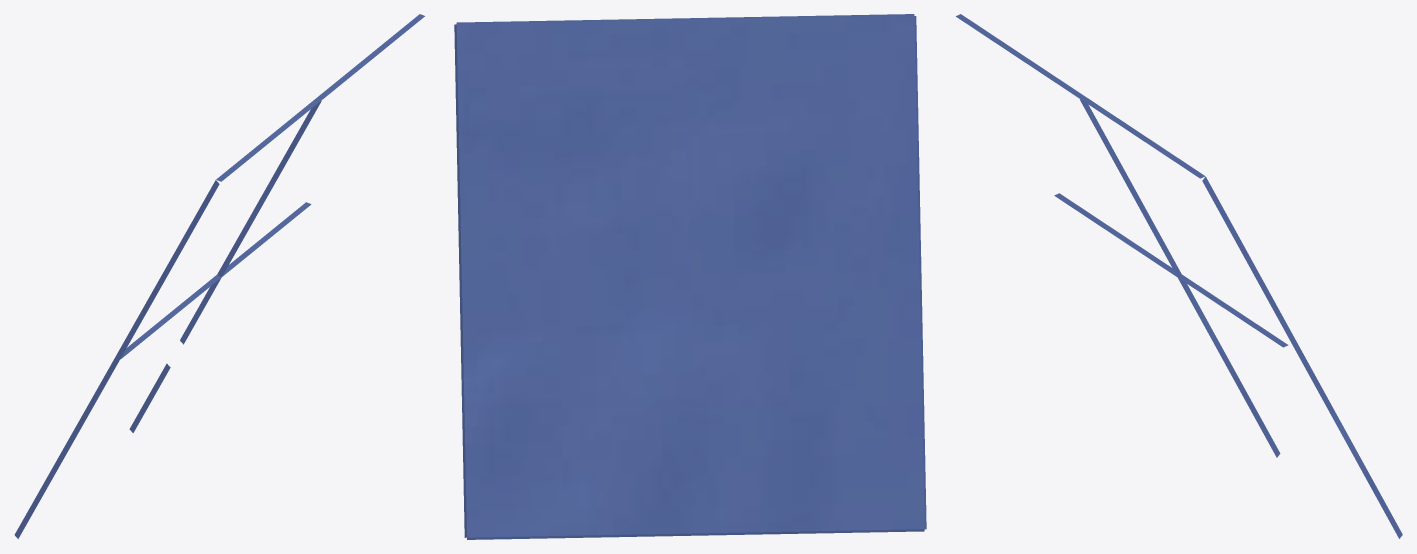
3 views of the same model, side by side, from view 1: azimuth 30°, elevation 25°; view 2: azimuth 150°, elevation 25°; view 3: azimuth 270°, elevation 25° (orthographic). The views are drawn at different scales.
Bounding box in the file's own units: 39489 × 35211 × 34369.
1 material, 1 textured.
